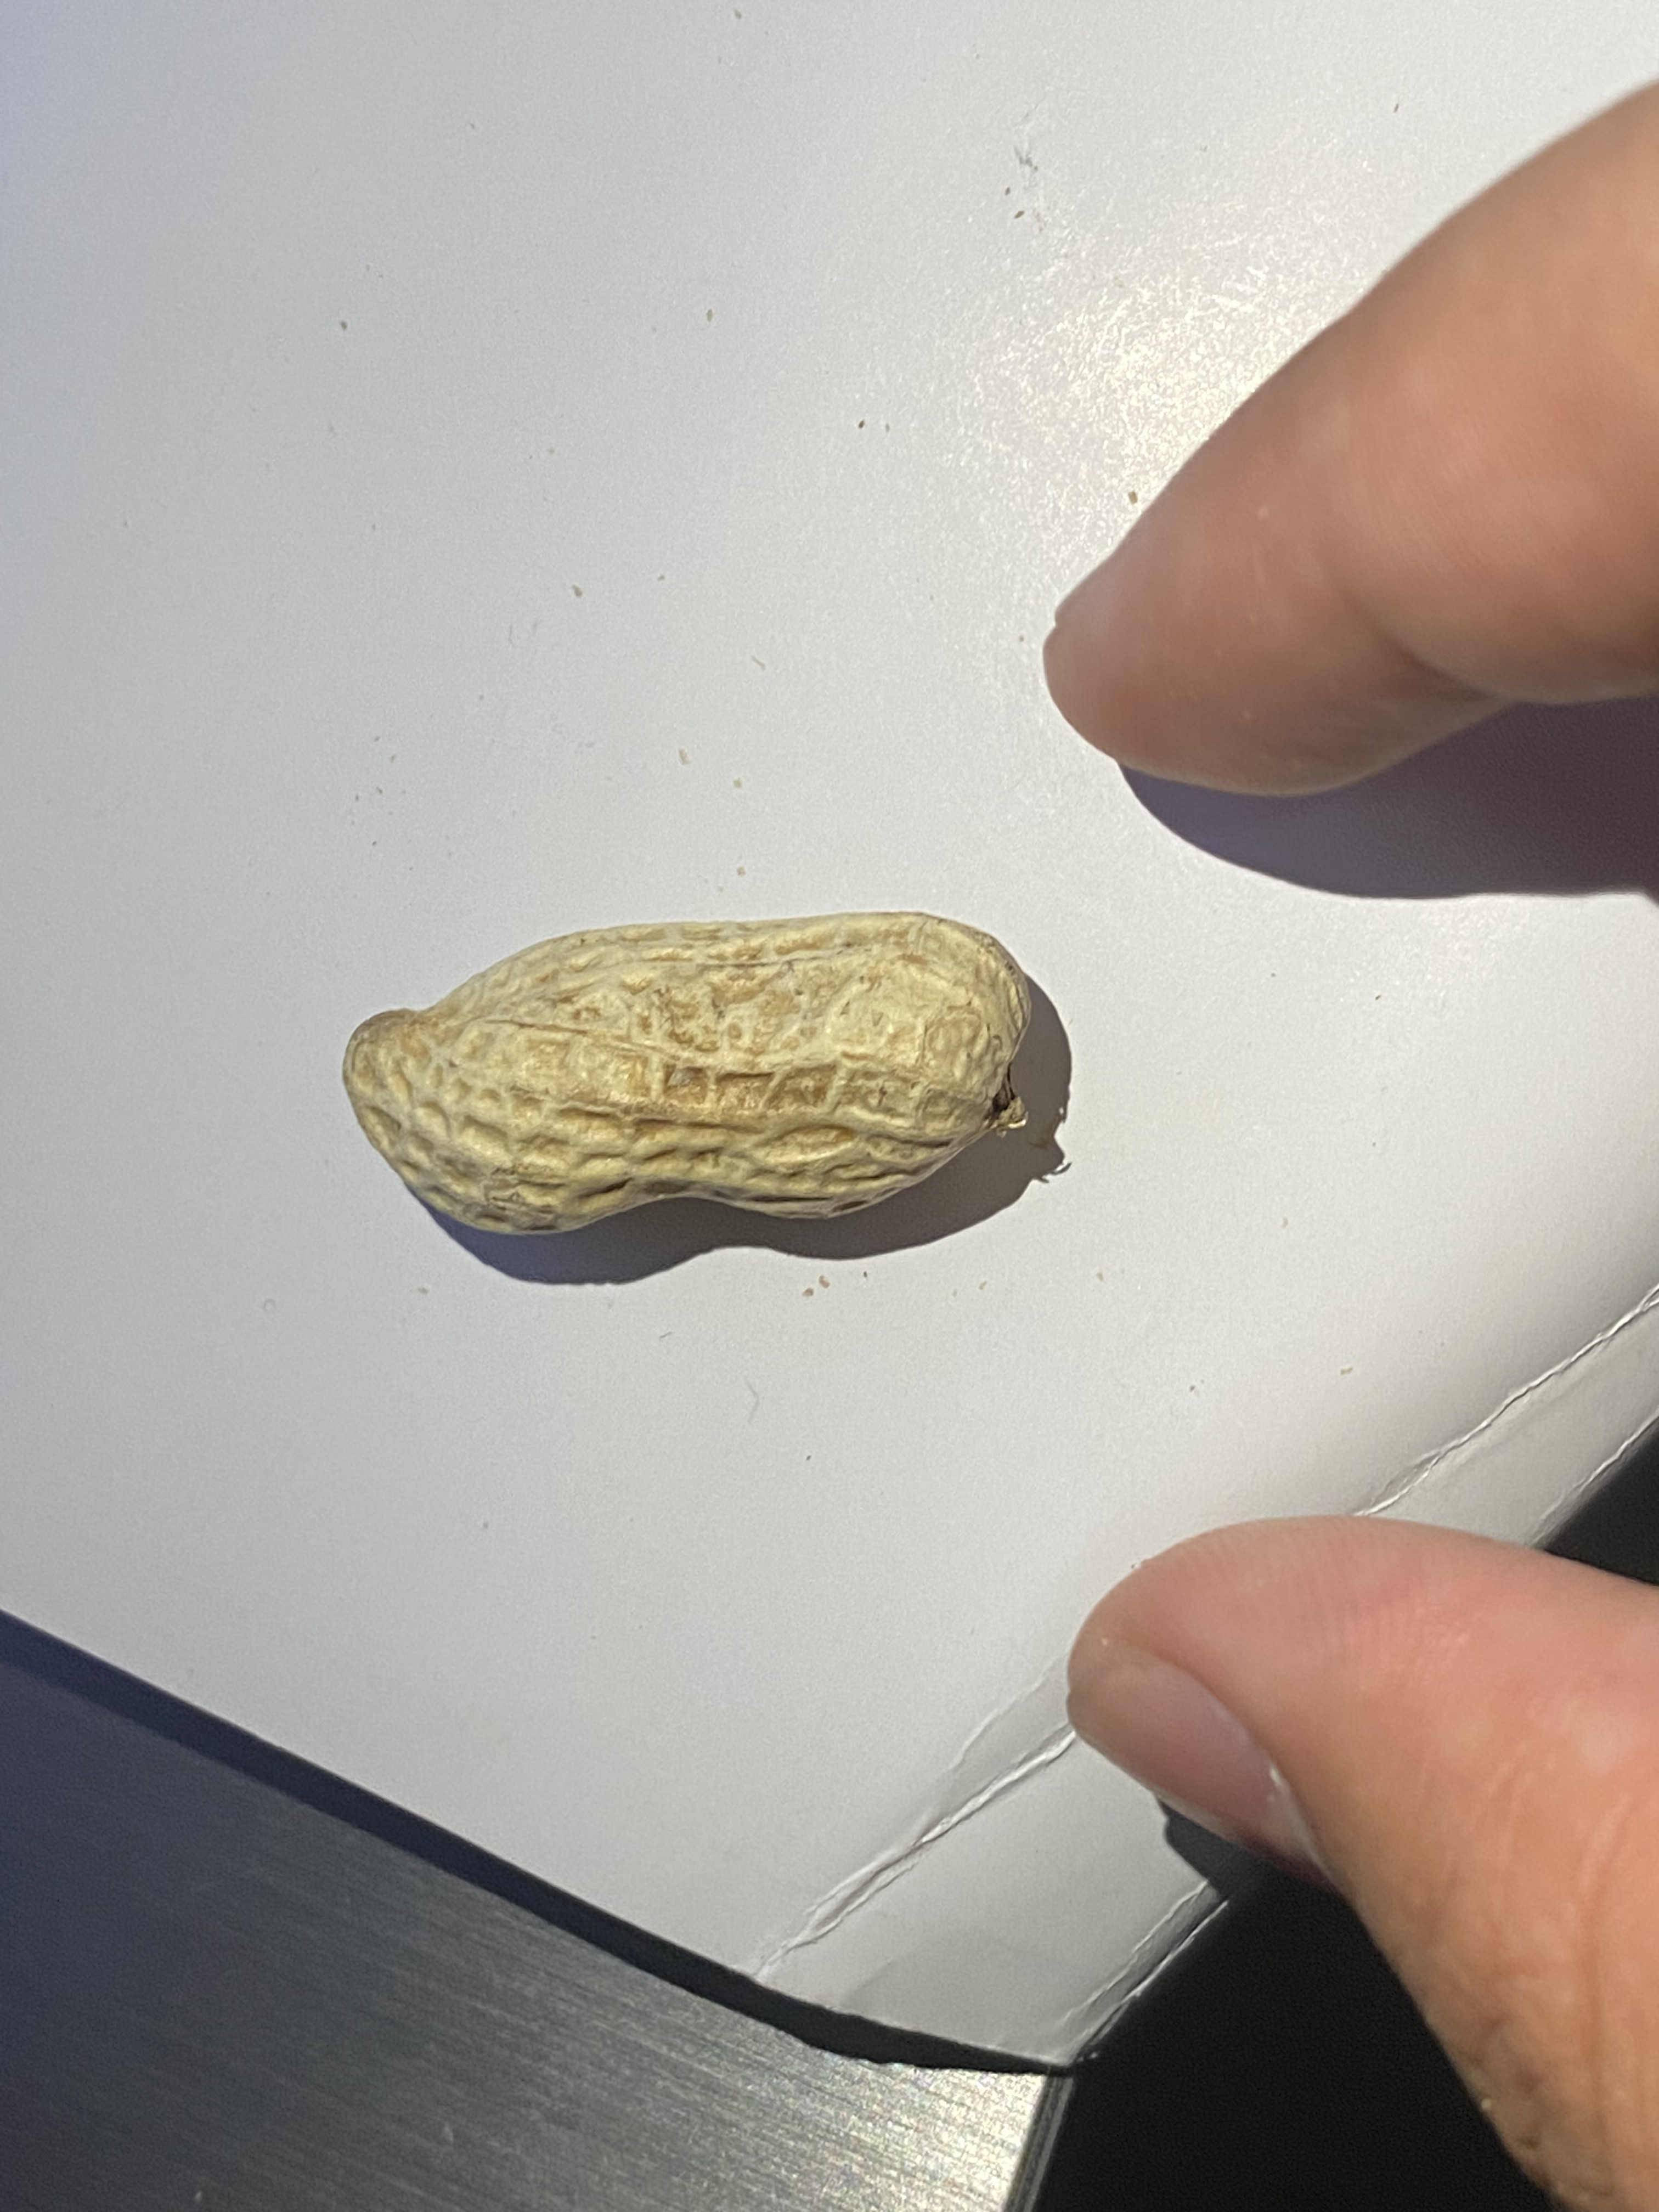kacang2: (317, 873, 1072, 1263)
